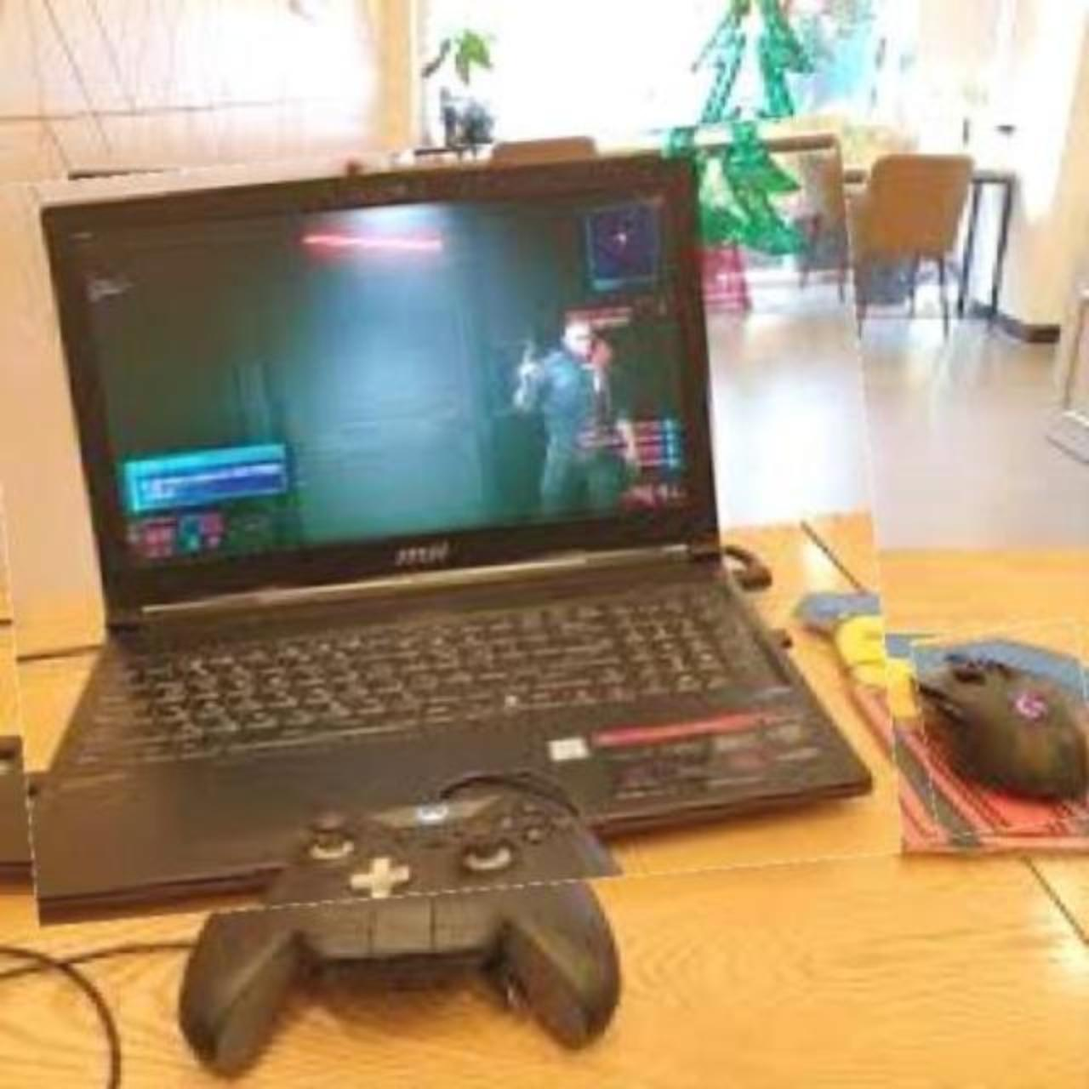laptop: (1, 131, 887, 907)
